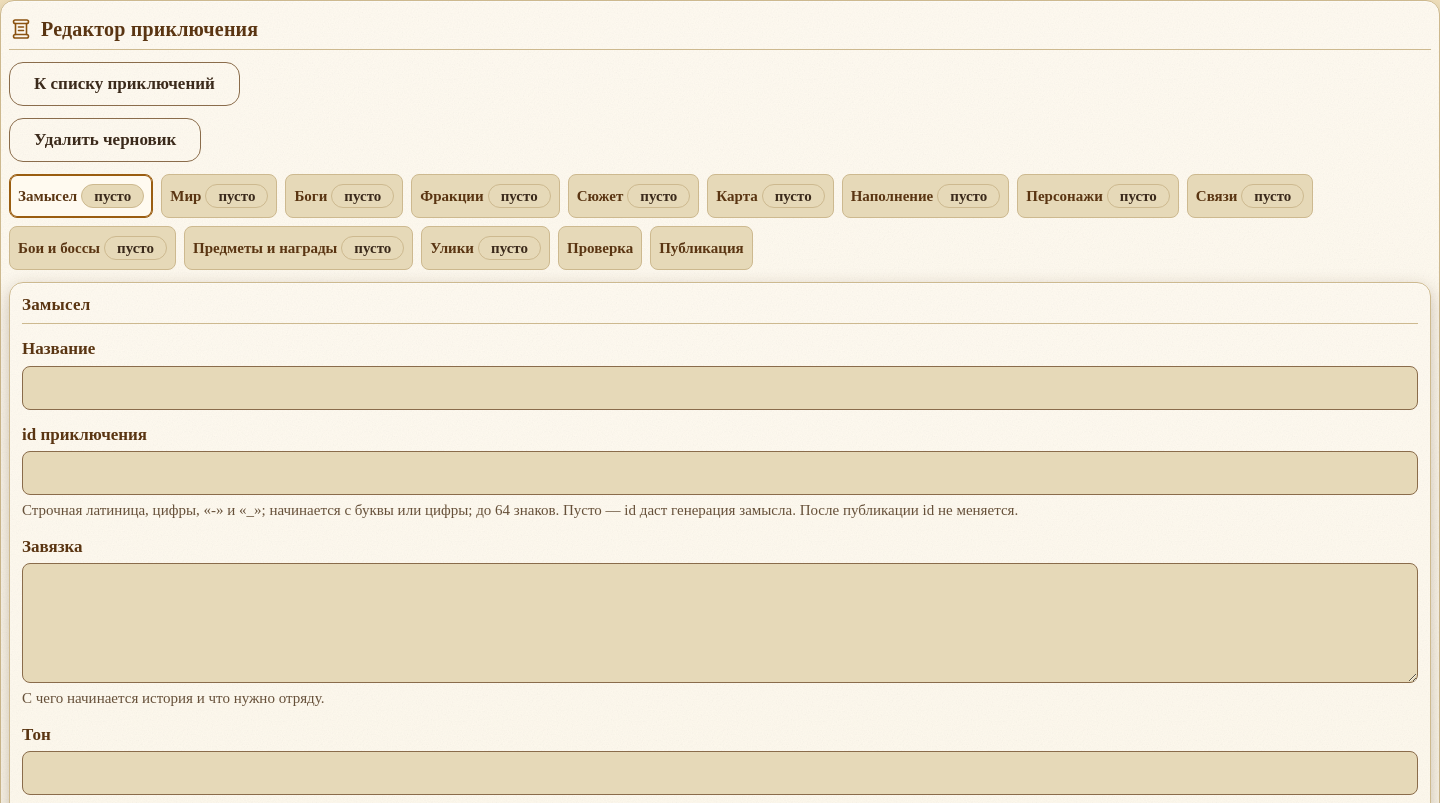
Test case: экран «Проверка» › ровные часы — без минут
Click the button "Проверка" at (600, 248), box [558, 226, 642, 270]
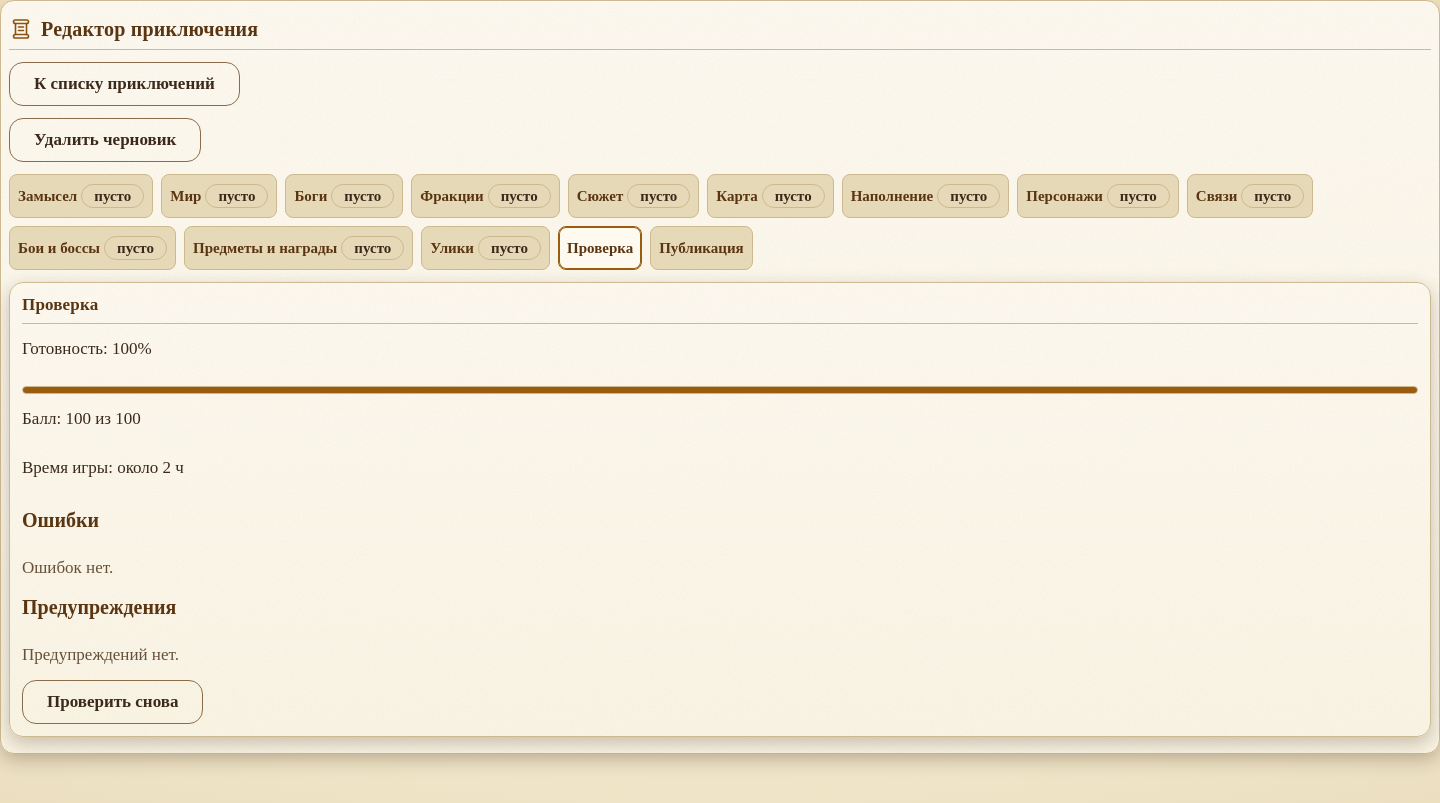
Result: the text "Время игры: около 2 ч" is shown at [22, 458, 184, 477]
